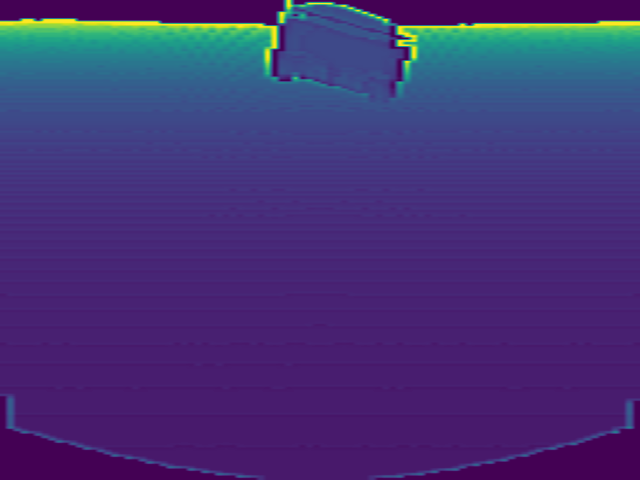car_0027: (267, 1, 419, 104)
